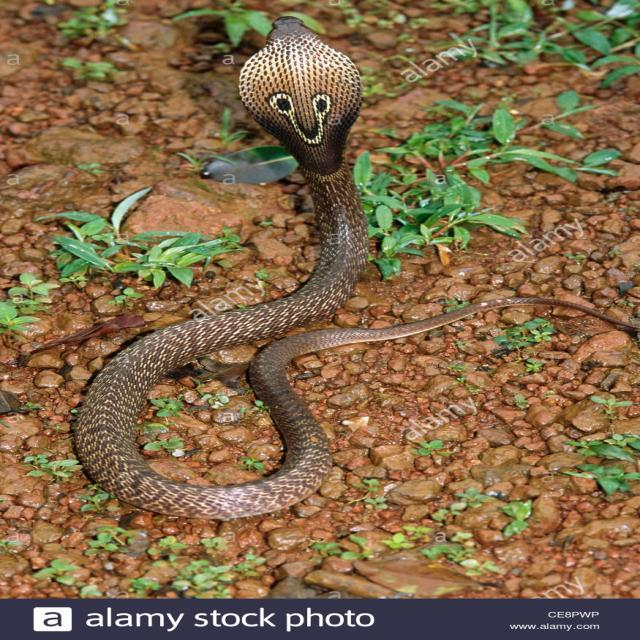Snake: (49, 8, 640, 520)
